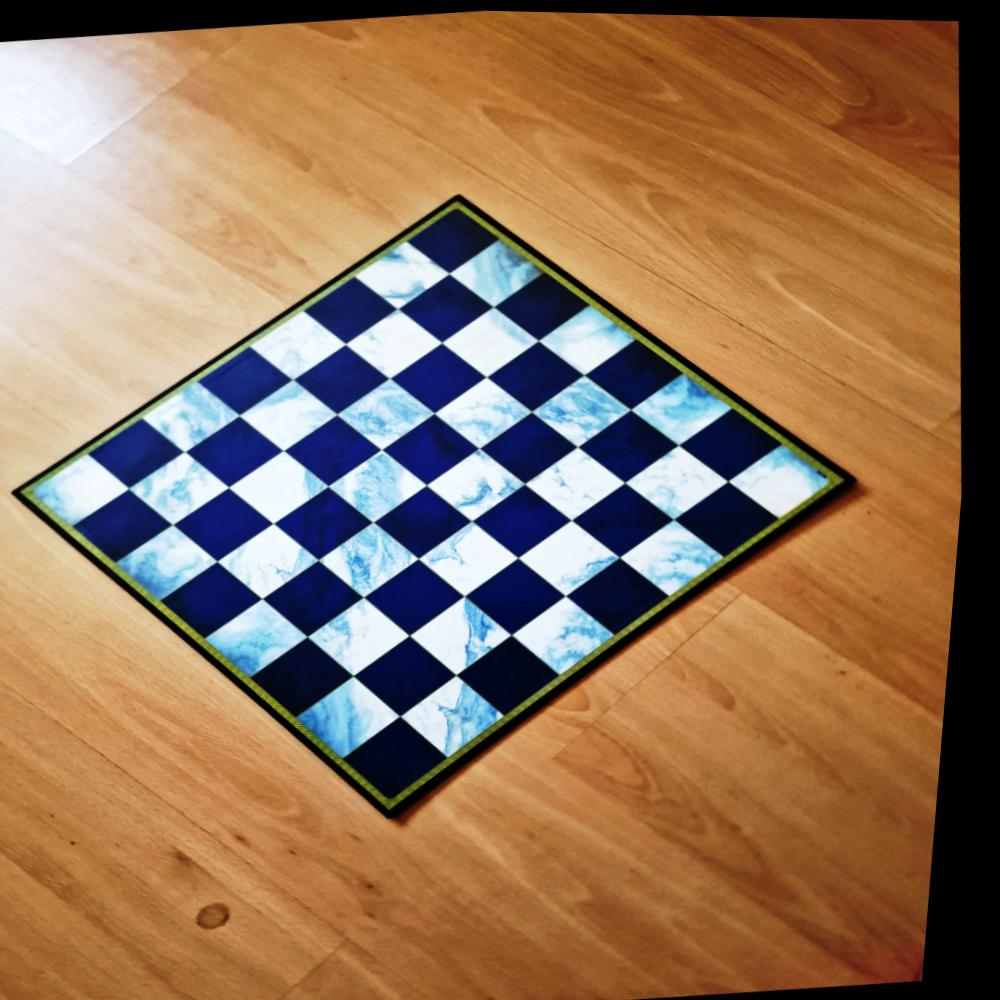chessfield: (350, 710, 470, 813), (406, 669, 532, 765), (730, 434, 858, 528), (624, 511, 746, 606), (296, 670, 417, 765), (11, 449, 143, 536), (516, 588, 633, 682), (213, 593, 331, 683), (464, 630, 578, 721), (416, 589, 531, 679), (314, 596, 430, 685), (117, 525, 235, 611), (627, 438, 745, 524), (522, 513, 636, 600), (220, 519, 334, 606), (637, 368, 753, 453), (571, 554, 684, 641), (258, 633, 368, 722), (321, 518, 433, 605), (679, 477, 793, 562), (360, 633, 471, 720), (525, 441, 638, 526), (424, 515, 535, 601), (470, 555, 579, 640), (167, 558, 277, 642), (369, 554, 477, 639), (142, 372, 250, 457), (266, 555, 375, 639), (178, 483, 287, 567), (338, 371, 448, 454), (233, 445, 342, 528), (537, 296, 646, 379), (427, 445, 536, 528), (534, 371, 643, 454), (136, 448, 246, 530), (683, 400, 791, 483), (240, 375, 349, 457), (331, 443, 440, 524), (577, 477, 686, 558), (247, 305, 356, 386), (436, 371, 543, 453), (78, 486, 185, 568), (279, 482, 385, 564), (449, 234, 559, 313), (582, 405, 689, 486), (477, 478, 583, 559), (445, 300, 551, 381), (189, 413, 295, 493), (347, 304, 453, 384), (89, 414, 195, 494), (354, 232, 460, 312), (486, 338, 592, 417), (375, 482, 482, 560), (587, 334, 692, 413), (404, 197, 507, 277), (483, 408, 587, 487), (384, 410, 488, 489), (288, 412, 392, 491), (394, 340, 498, 418), (302, 270, 406, 347), (400, 267, 502, 345), (297, 342, 400, 419), (493, 266, 595, 343), (205, 341, 306, 418)
